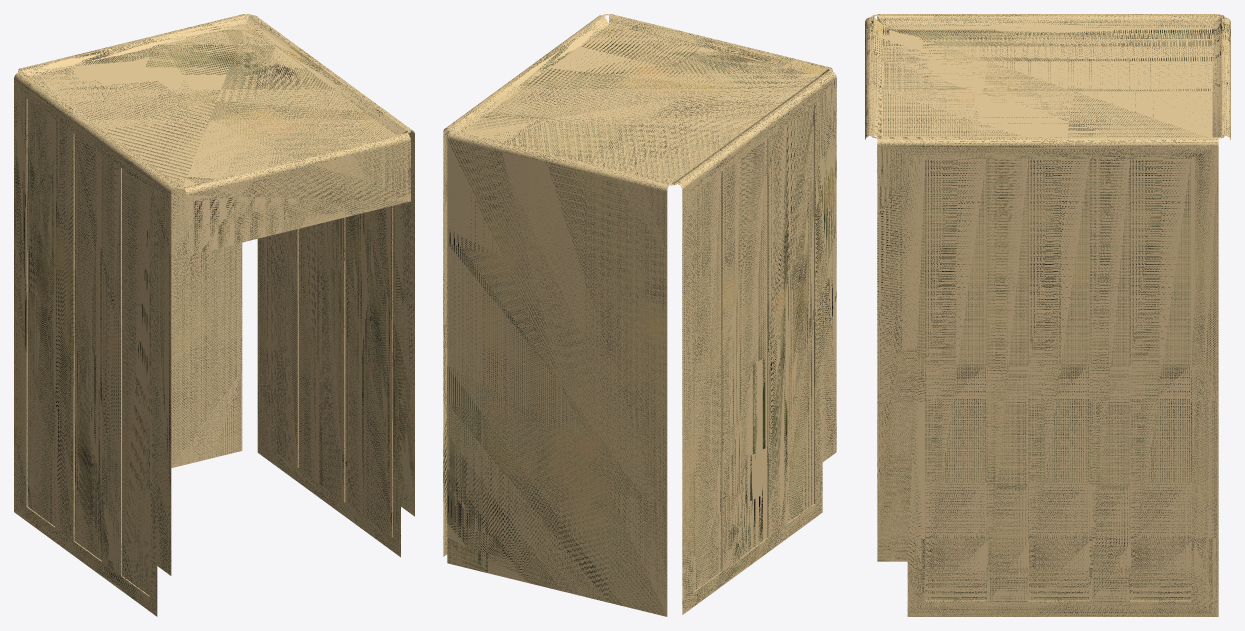
Rendered from original-84.obj.
3 renders of one model, left to right at view 1: azimuth 30°, elevation 25°; view 2: azimuth 150°, elevation 25°; view 3: azimuth 270°, elevation 25°, orthographic. The views are drawn at different scales.
Parts seen in each view (by area): view 1: mesh9/mesh9-geometry/material_2/component_0#mesh9-geometry; view 2: mesh9/mesh9-geometry/material_2/component_0#mesh9-geometry; view 3: mesh9/mesh9-geometry/material_2/component_0#mesh9-geometry.
Boxes of the visible parts, x1=… form: mesh9/mesh9-geometry/material_2/component_0#mesh9-geometry: x1=14, y1=14, x2=414, y2=616; mesh9/mesh9-geometry/material_2/component_0#mesh9-geometry: x1=443, y1=14, x2=836, y2=616; mesh9/mesh9-geometry/material_2/component_0#mesh9-geometry: x1=865, y1=14, x2=1230, y2=616.
Size of the model in its own units: 0.855 by 1.47 by 1.02.
